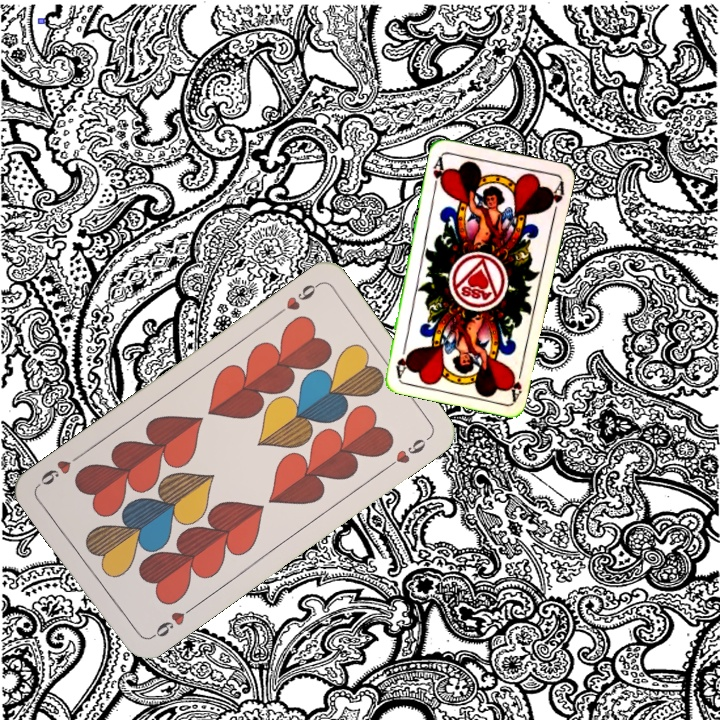H9: (145, 602, 197, 642), (271, 279, 322, 319)
HA: (505, 362, 526, 402), (429, 152, 449, 192)
